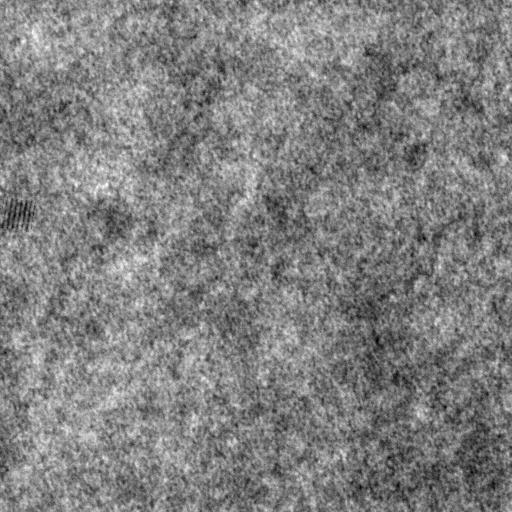impact: (1, 196, 37, 235)
